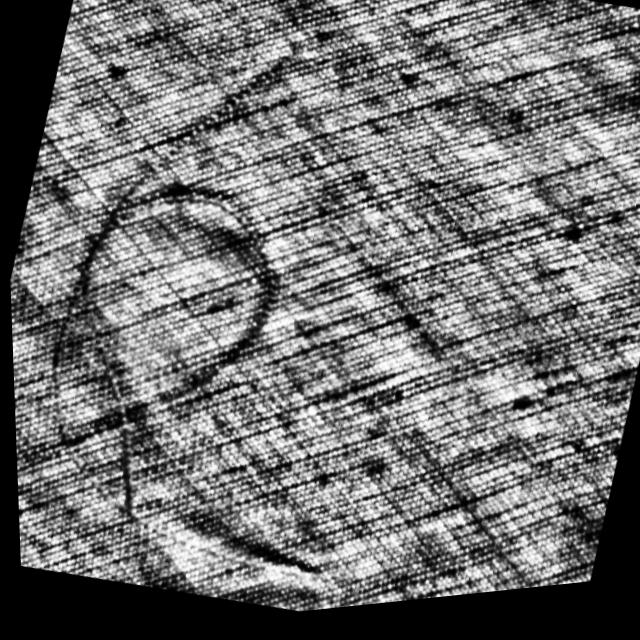Stitch: (1, 12, 451, 621)
